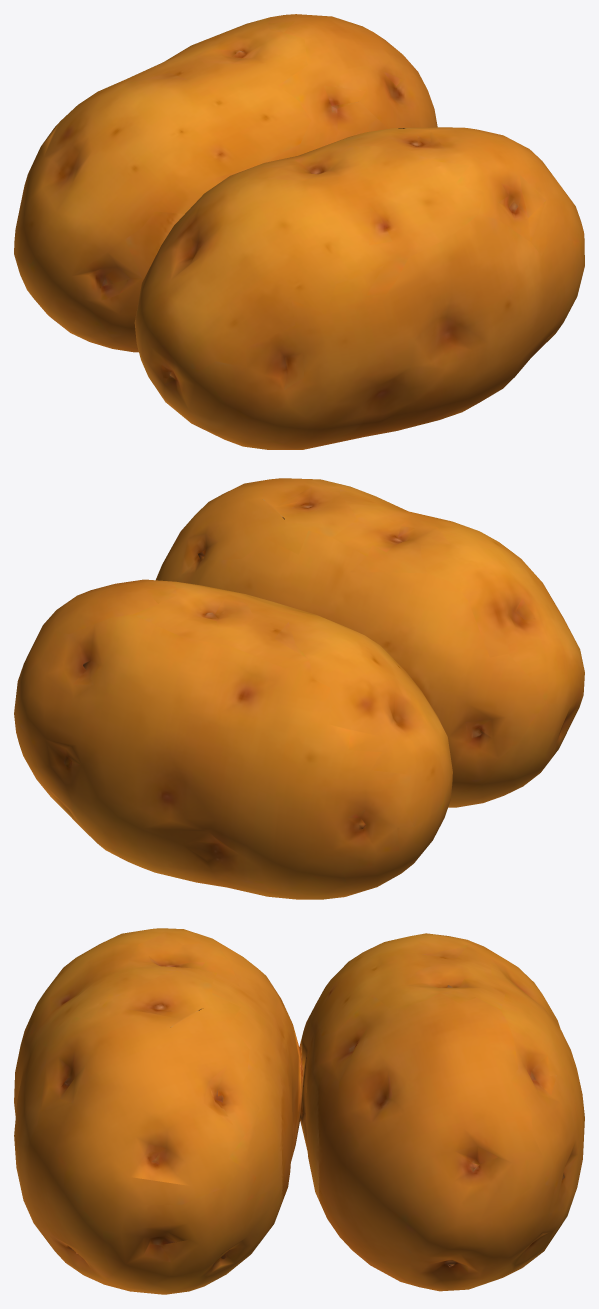
3 views of the same model, one above another, from view 1: azimuth 30°, elevation 25°; view 2: azimuth 150°, elevation 25°; view 3: azimuth 270°, elevation 25° (orthographic). The views are drawn at different scales.
Visible parts, largest first — view 1: potato; view 2: potato; view 3: potato.
Boxes of the visible parts, left/top/right/bottom form: potato: left=14, top=14, right=584, bottom=449; potato: left=14, top=478, right=584, bottom=899; potato: left=14, top=928, right=584, bottom=1294.
Bounding box in the file's own units: 0.1412 × 0.0907 × 0.16.
1 material, 1 textured.
